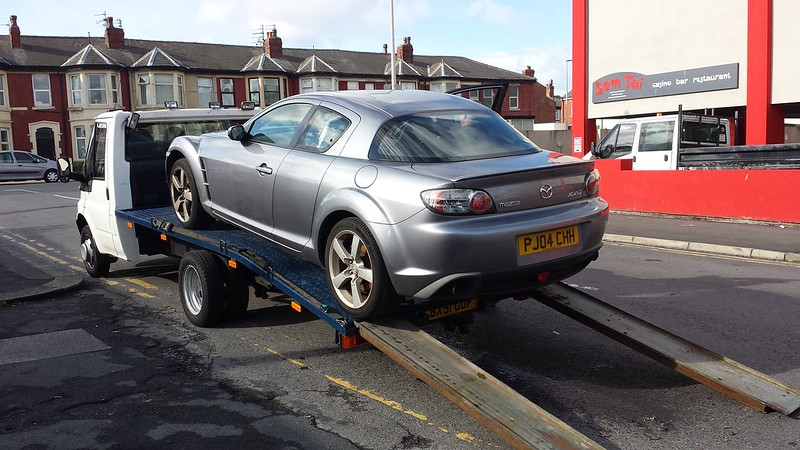number_plate: (508, 221, 596, 257)
